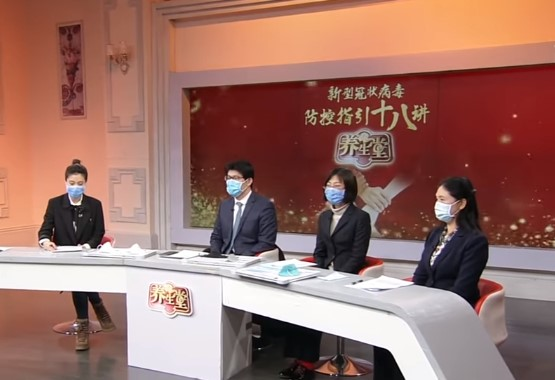face_with_mask: (431, 181, 469, 224), (323, 169, 356, 208), (223, 161, 253, 199), (65, 167, 87, 201)
